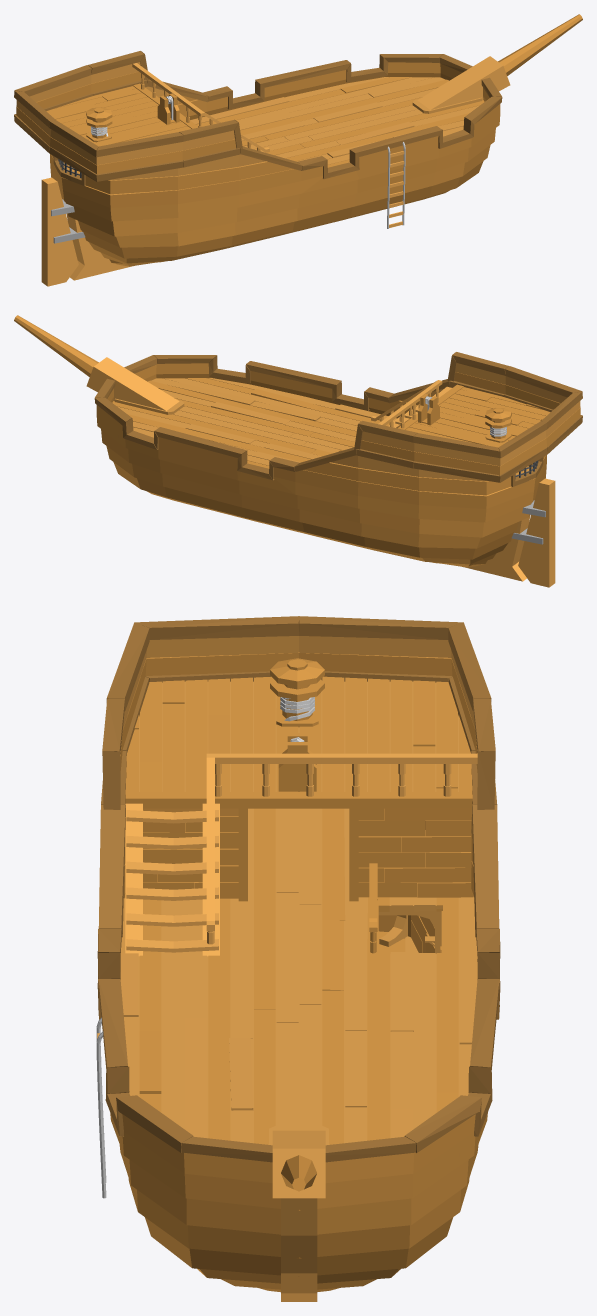
Rendered from ship.fbx.
3 renders of one model, top to bottom at view 1: azimuth 30°, elevation 25°; view 2: azimuth 150°, elevation 25°; view 3: azimuth 270°, elevation 25°, orthographic. The views are drawn at different scales.
Parts seen in each view (by area): view 1: ship; view 2: ship; view 3: ship.
Part boxes in pixels (bbox=[...]): ship: bbox=[14, 14, 582, 286]; ship: bbox=[14, 315, 582, 587]; ship: bbox=[96, 616, 500, 1301].
Bounding box in the file's own units: 25.02 × 7.23 × 8.15.
